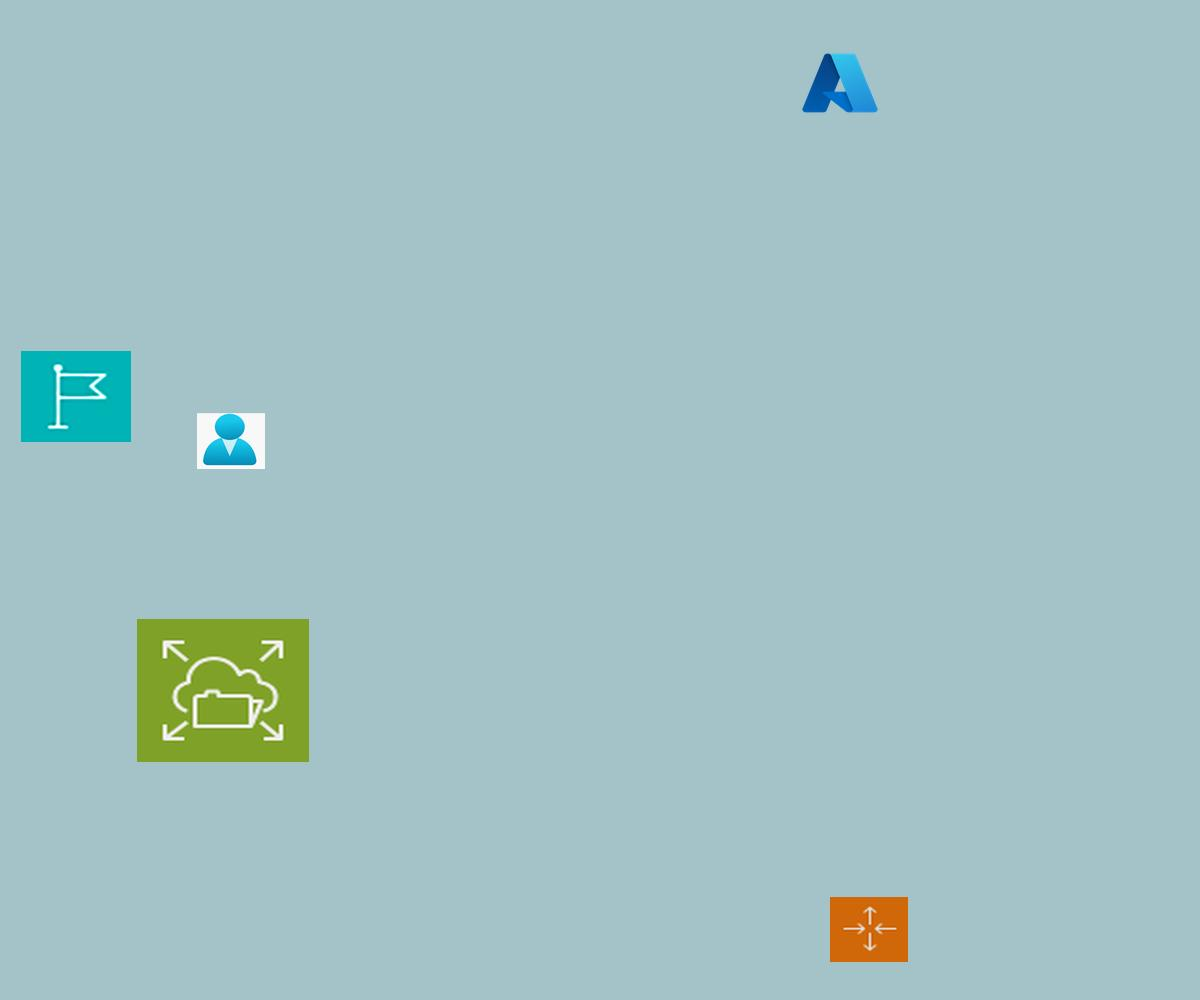AWS-EFS: (137, 619, 309, 762)
AWS-Region: (21, 351, 131, 442)
AWS-Scaling-group: (830, 897, 908, 962)
Azure_services: (799, 49, 881, 117)
Azure_users: (197, 413, 265, 469)
